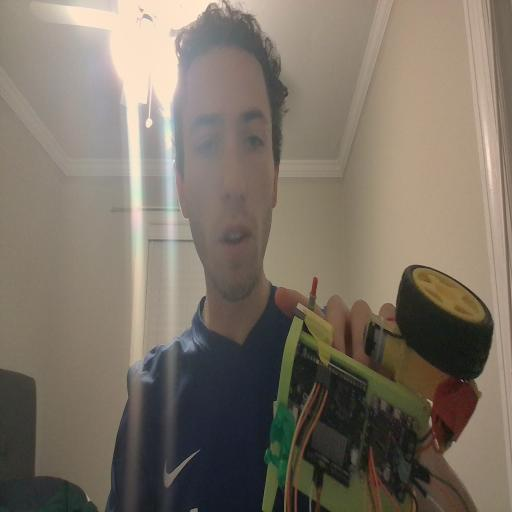green LEGO minifig: (264, 404, 297, 494)
